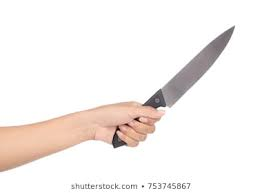knife: (109, 23, 237, 152)
